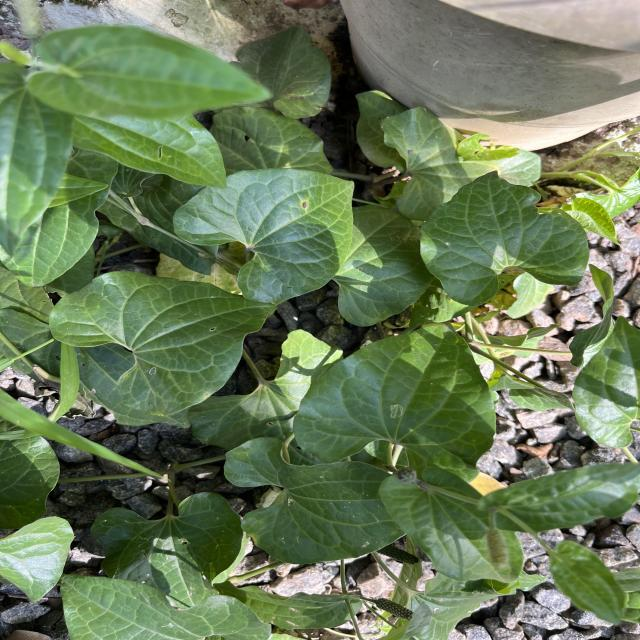Piper longum: (48, 268, 279, 418), (290, 321, 498, 485), (171, 166, 357, 306), (418, 168, 592, 308)
